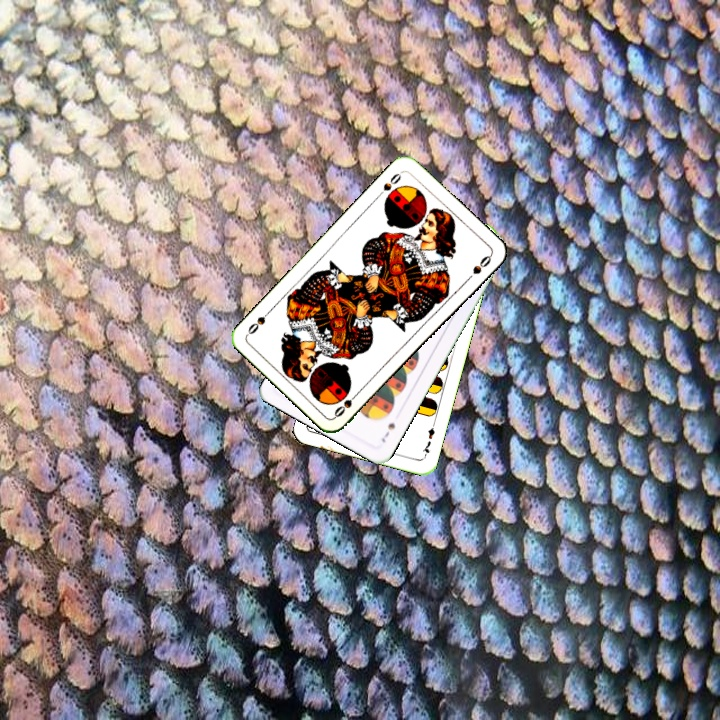E7: (418, 420, 438, 460)
S7: (377, 419, 398, 445)
SO: (330, 387, 362, 420), (373, 167, 405, 200)
